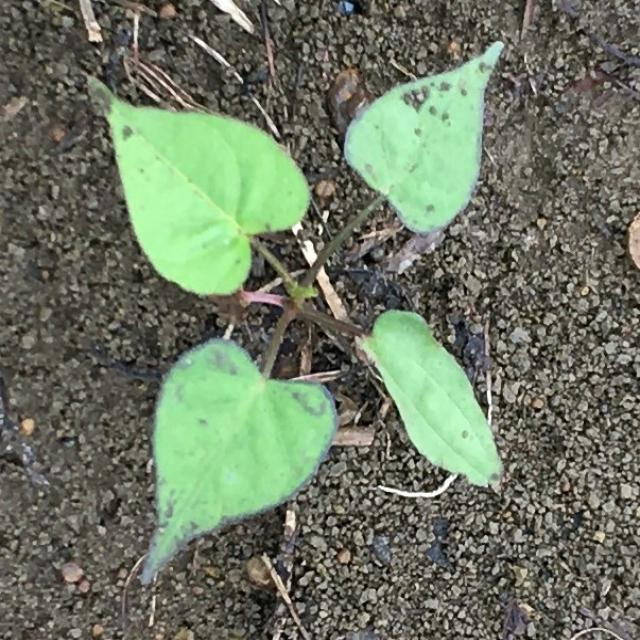MorningGlory: (88, 38, 506, 584)
